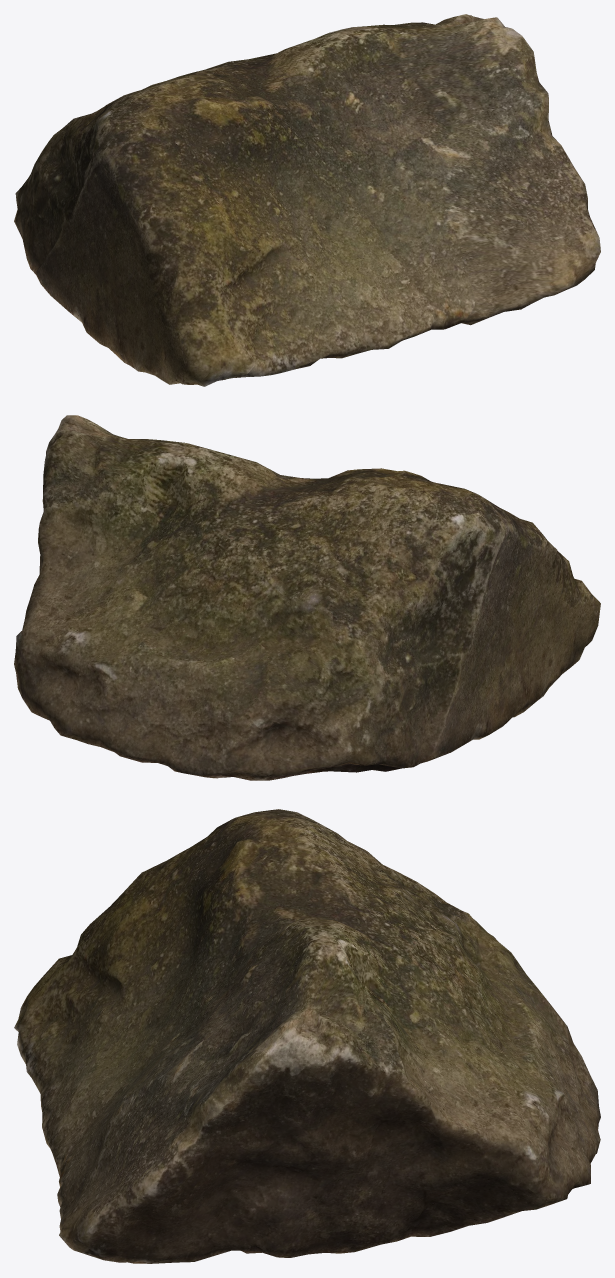
The model's file is rock_moss_01_r03.glb.
The picture shows the model from 3 angles, top to bottom: view 1: azimuth 30°, elevation 25°; view 2: azimuth 150°, elevation 25°; view 3: azimuth 270°, elevation 25°; orthographic projection. The views are drawn at different scales.
Parts seen in each view (by area): view 1: rock_moss_01_r03_LOD0; view 2: rock_moss_01_r03_LOD0; view 3: rock_moss_01_r03_LOD0.
Part boxes in pixels (bbox=[...]): rock_moss_01_r03_LOD0: bbox=[14, 14, 600, 386]; rock_moss_01_r03_LOD0: bbox=[14, 415, 600, 780]; rock_moss_01_r03_LOD0: bbox=[14, 809, 600, 1263].
Size of what is drawn, in the model's own units: 2.11 by 1.1 by 2.08.
1 material, 1 textured.
